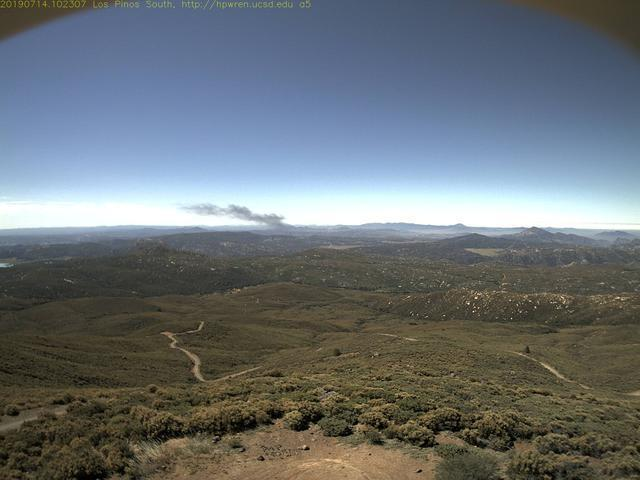Smoke: (173, 197, 299, 235)
